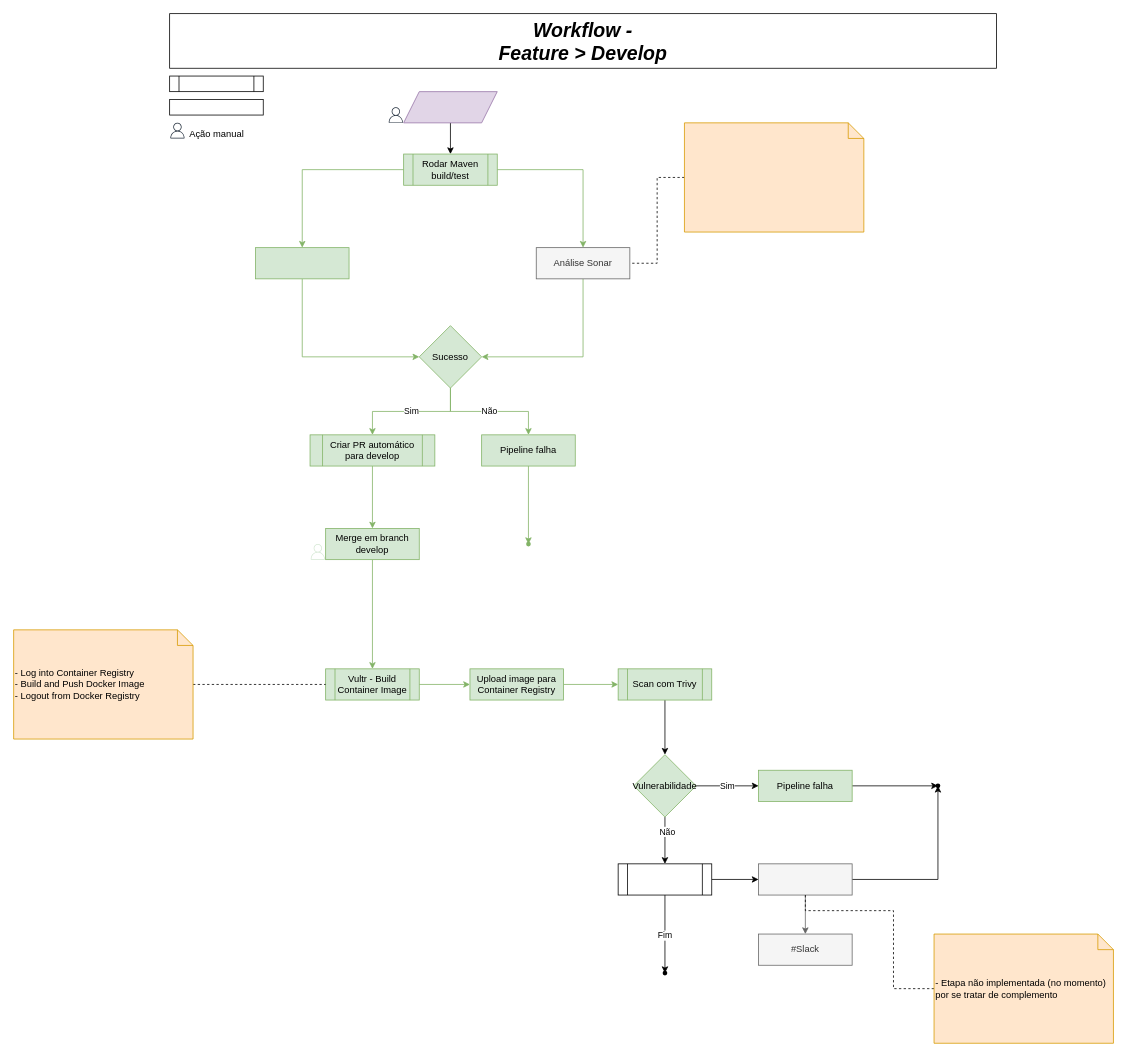
This 1127x1057 diagram has some shape labels left out. The shapes that lost their labels are listed below. From the top down, each one's centre as x and y in pixels, then its label:
point (216, 83): Job
point (216, 107): Step
point (450, 107): Push em branch feature/*
point (774, 177): - Comentando para não execução em cada build da imagem (uso de versão gratuita)
point (302, 263): Lint da imagem Docker (Hadolint)
point (664, 879): Deploy (dev)
point (805, 879): Notifica deploy (ambiente)
